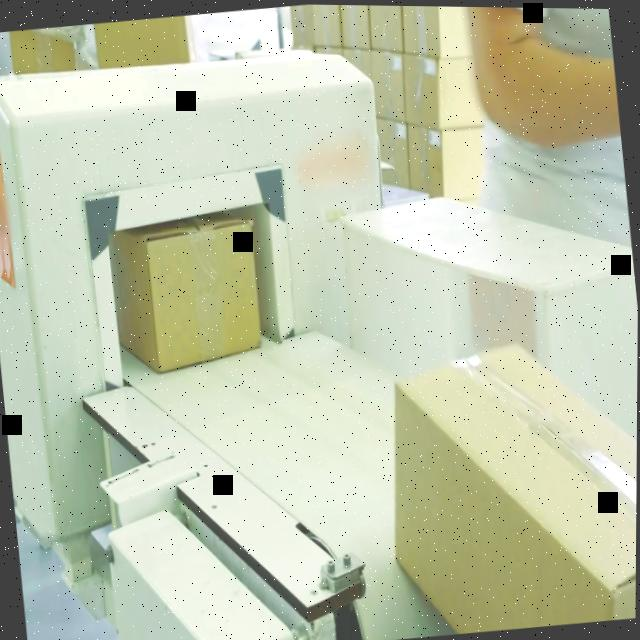box: (372, 323, 638, 639), (106, 199, 273, 386)
